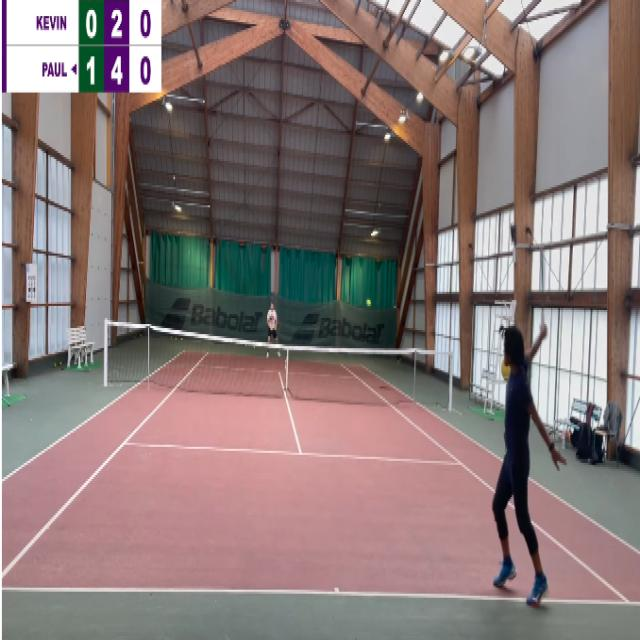ball: (366, 298, 372, 308), (175, 338, 177, 341), (181, 338, 183, 340)
